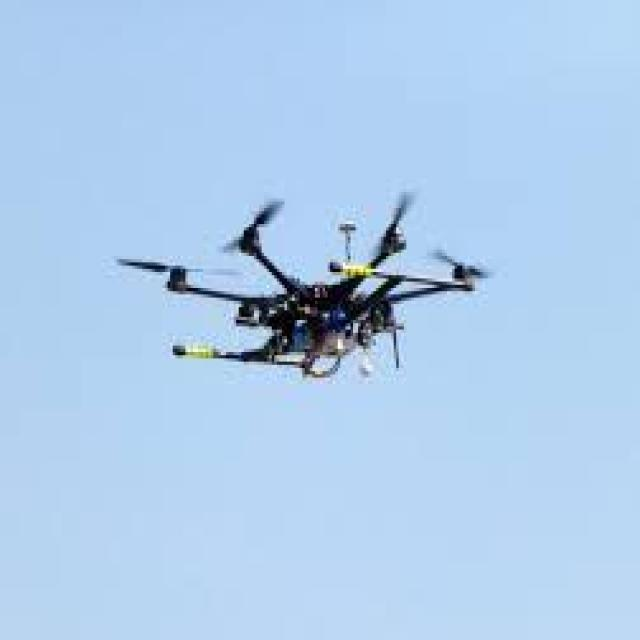drones: (111, 179, 502, 390)
